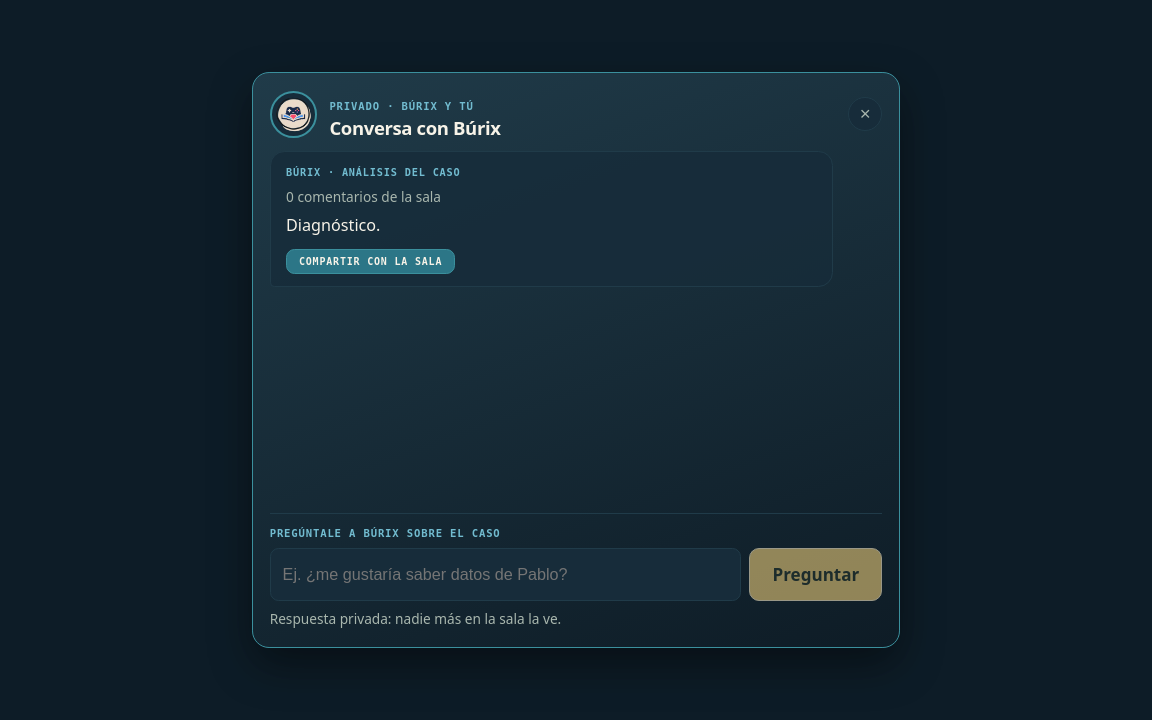
Test case: BurixPanel — private ask, works with the room closed › keeps the last exchange and shows the failure instead of a silent dead end
The image size is (1152, 720).
Expected: the element with test id "burix-analysis" is shown, x1=286 y1=214 x2=380 y2=236
Type "¿Qué necesita Alex?" into the field named "Pregunta privada a Búrix".
click(505, 575); type("¿Qué necesita Alex?")  # box x1=270 y1=548 x2=741 y2=601
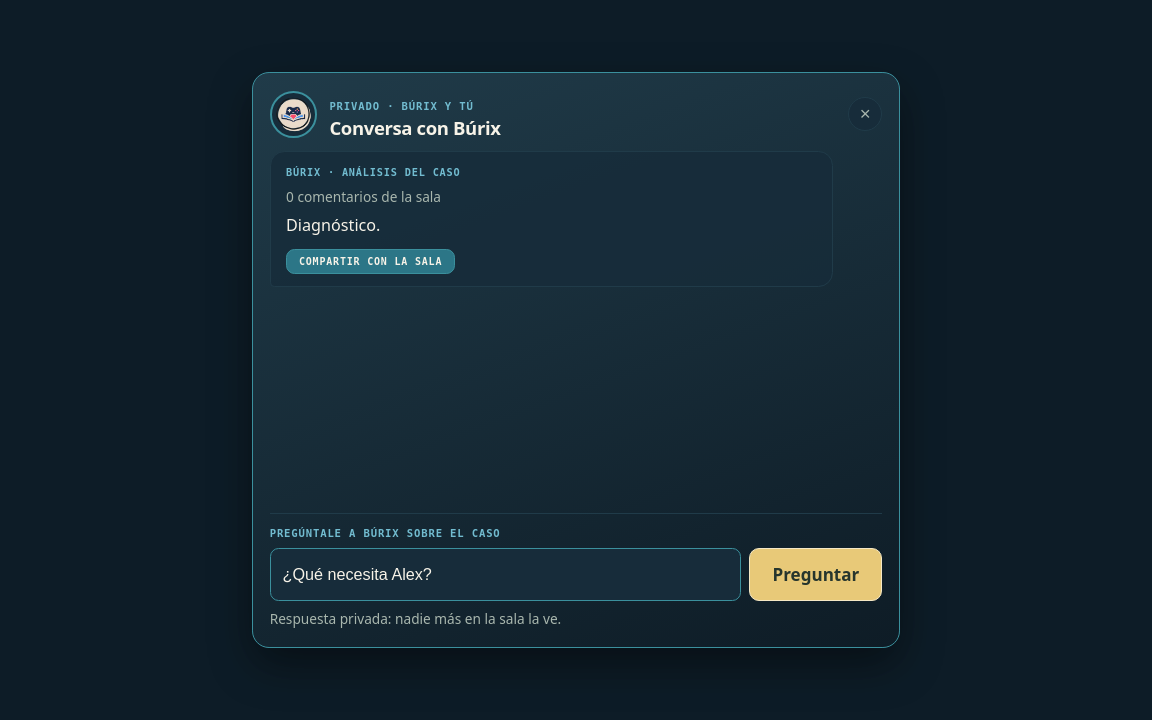
Click the button "Preguntar".
click(816, 575)  # box x1=749 y1=548 x2=882 y2=601
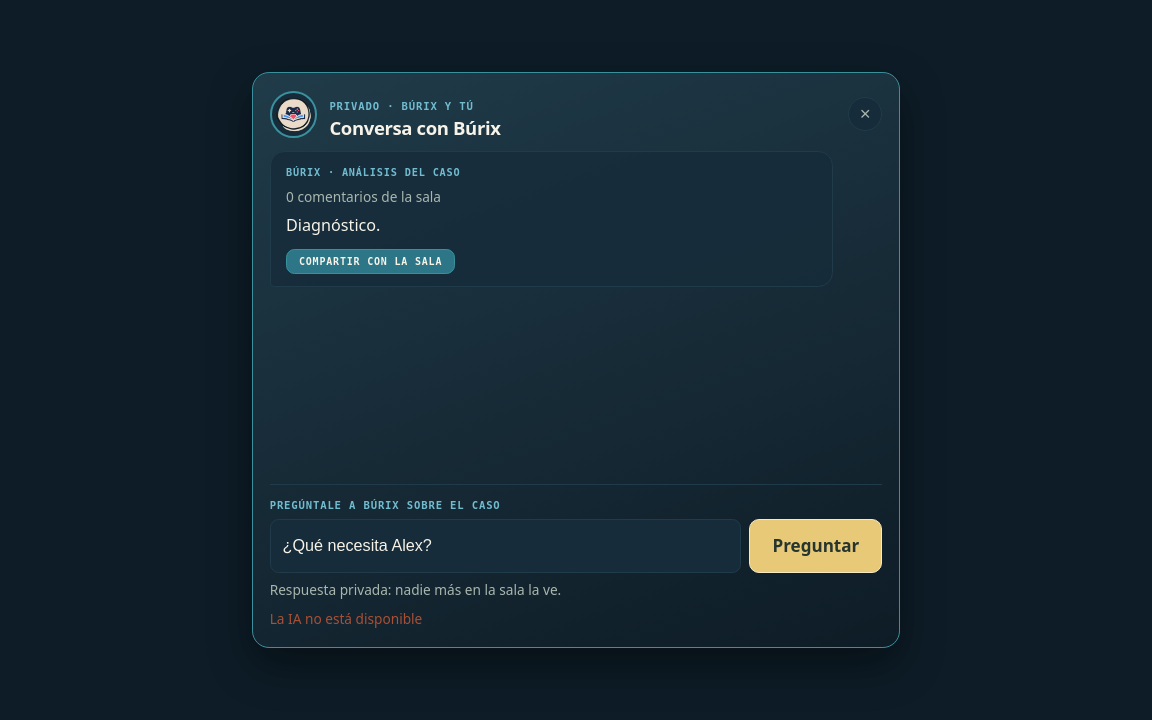
Result: the message reads "La IA no está disponible" at x1=270 y1=609 x2=422 y2=628
Type "¿Y ahora?" into the field named "Pregunta privada a Búrix".
click(505, 546); type("¿Y ahora?")  # box x1=270 y1=519 x2=741 y2=572
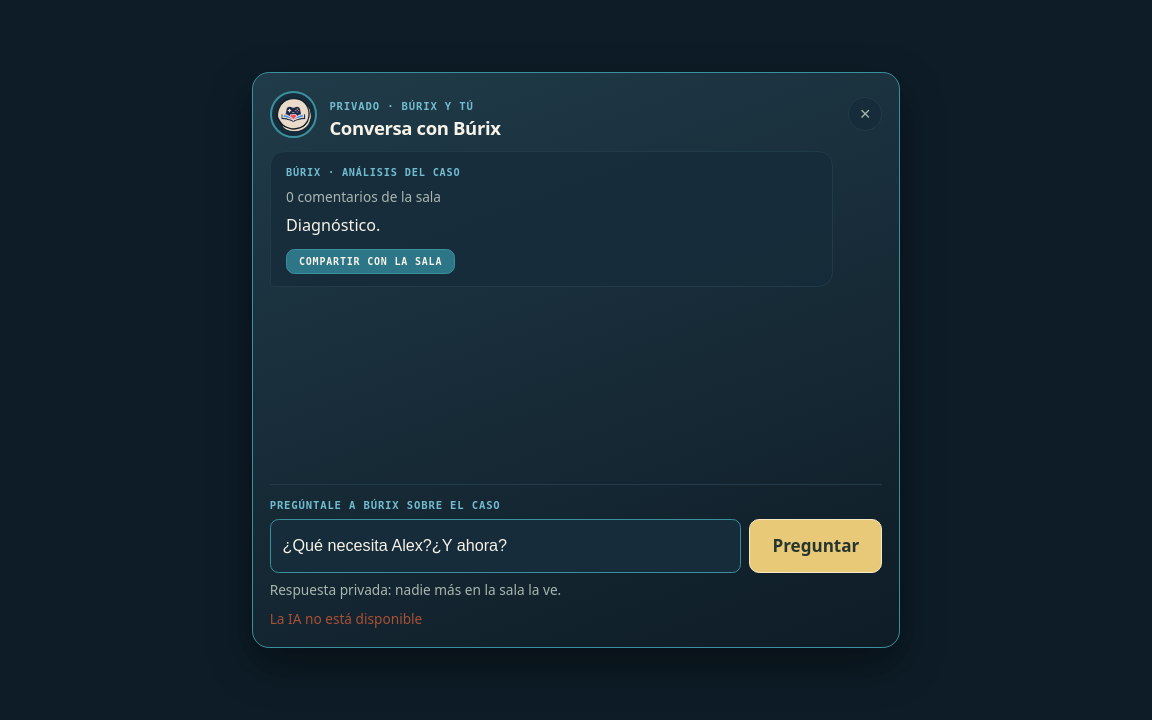
Click the button "Preguntar".
click(816, 546)  # box x1=749 y1=519 x2=882 y2=572
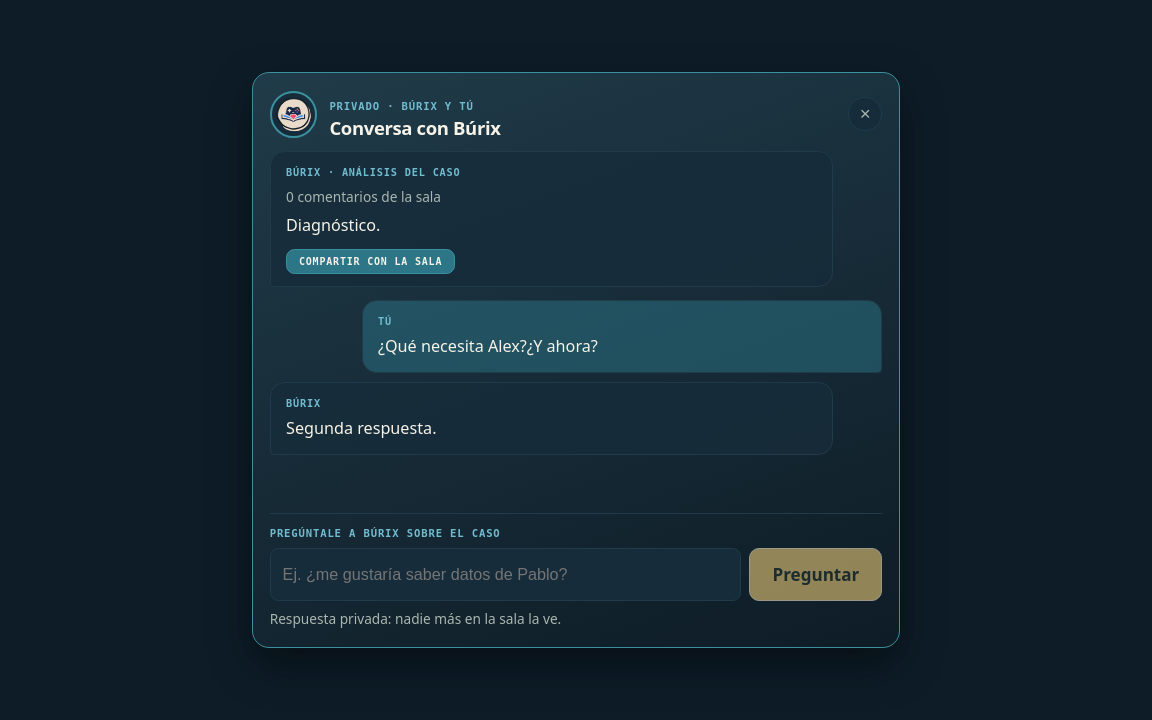
Result: the text "Segunda respuesta." is shown at x1=286 y1=417 x2=436 y2=439
